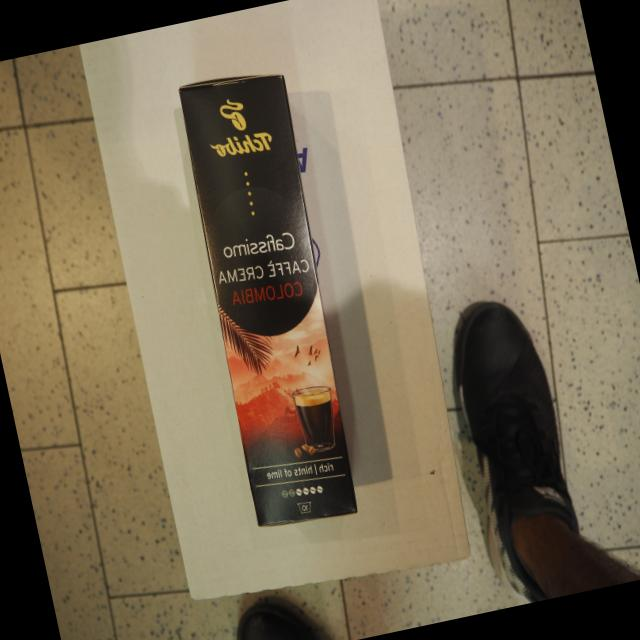Simo CC Colombia: (175, 66, 362, 533)
